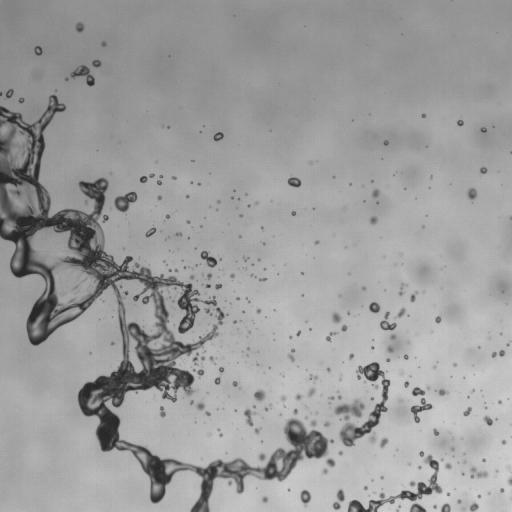droplet: (411, 387, 433, 422), (70, 65, 94, 86), (114, 192, 137, 213), (200, 250, 218, 267), (380, 311, 396, 330), (243, 408, 255, 426), (470, 467, 487, 478), (300, 490, 311, 506), (192, 353, 205, 365), (254, 389, 265, 401), (288, 177, 301, 187), (369, 302, 380, 313), (145, 227, 156, 237), (331, 312, 341, 323), (193, 367, 204, 377), (467, 188, 476, 200), (75, 22, 84, 32), (396, 308, 405, 318), (307, 387, 316, 397), (483, 415, 492, 425), (469, 502, 478, 511), (213, 132, 223, 140), (463, 406, 471, 416), (380, 437, 388, 447), (196, 401, 204, 410), (441, 503, 450, 511), (410, 291, 417, 301), (369, 216, 377, 224), (34, 46, 41, 55), (92, 60, 101, 67), (6, 89, 13, 98), (437, 389, 447, 395), (140, 176, 148, 183), (372, 189, 379, 197), (309, 374, 317, 381), (258, 453, 265, 460), (444, 462, 451, 469), (435, 316, 441, 323), (498, 350, 505, 356), (209, 356, 215, 363), (214, 377, 220, 384), (480, 167, 486, 173), (215, 283, 221, 289), (341, 325, 347, 331), (387, 346, 393, 352), (280, 395, 286, 401), (295, 394, 301, 400), (457, 120, 463, 125), (404, 381, 409, 387), (254, 428, 260, 433), (433, 429, 438, 435), (322, 468, 327, 474), (262, 496, 267, 502), (101, 41, 106, 46), (207, 273, 212, 278), (390, 334, 395, 339), (491, 352, 496, 357), (219, 367, 224, 372), (232, 381, 237, 386), (324, 421, 329, 426), (175, 232, 181, 236), (349, 353, 353, 359), (507, 466, 511, 472), (259, 278, 266, 281), (19, 98, 23, 103), (481, 128, 486, 132), (384, 140, 388, 145), (149, 173, 154, 177), (157, 180, 161, 185), (230, 273, 234, 278), (256, 309, 261, 313), (296, 331, 300, 336), (293, 409, 297, 414), (157, 195, 161, 199), (291, 211, 295, 215), (315, 240, 319, 244), (243, 257, 247, 261), (190, 275, 194, 279), (73, 285, 77, 289), (404, 355, 408, 359), (205, 411, 209, 415), (502, 440, 506, 444), (477, 494, 481, 498), (457, 499, 461, 503), (421, 114, 425, 117), (327, 367, 330, 371), (338, 395, 341, 399), (330, 396, 333, 400), (364, 486, 367, 490), (500, 488, 504, 491), (172, 176, 175, 179), (166, 215, 169, 218), (206, 284, 209, 287), (124, 291, 127, 294), (111, 342, 114, 345), (339, 376, 342, 379), (190, 401, 193, 404), (498, 400, 501, 403), (451, 447, 454, 450), (339, 451, 342, 454), (433, 505, 436, 508), (0, 91, 2, 95), (198, 182, 200, 185), (255, 202, 257, 205), (240, 214, 242, 217), (187, 220, 189, 223), (175, 269, 177, 272), (251, 274, 254, 276), (362, 287, 365, 289), (236, 297, 238, 300), (247, 347, 249, 350), (387, 358, 389, 361), (454, 363, 456, 366), (219, 434, 222, 436), (482, 459, 485, 461), (418, 466, 421, 468), (447, 492, 449, 495), (65, 78, 67, 80), (160, 175, 162, 177), (186, 195, 188, 197), (78, 275, 80, 277), (61, 292, 63, 294), (347, 312, 349, 314), (371, 346, 373, 348), (433, 366, 435, 368), (371, 397, 373, 399)
ligament: (0, 95, 332, 511), (347, 451, 442, 511), (334, 362, 390, 446), (333, 489, 345, 510), (326, 332, 336, 341), (288, 348, 294, 361), (399, 283, 405, 295), (160, 406, 165, 417), (507, 476, 511, 486), (264, 405, 271, 410), (507, 340, 511, 345), (396, 506, 400, 511)
